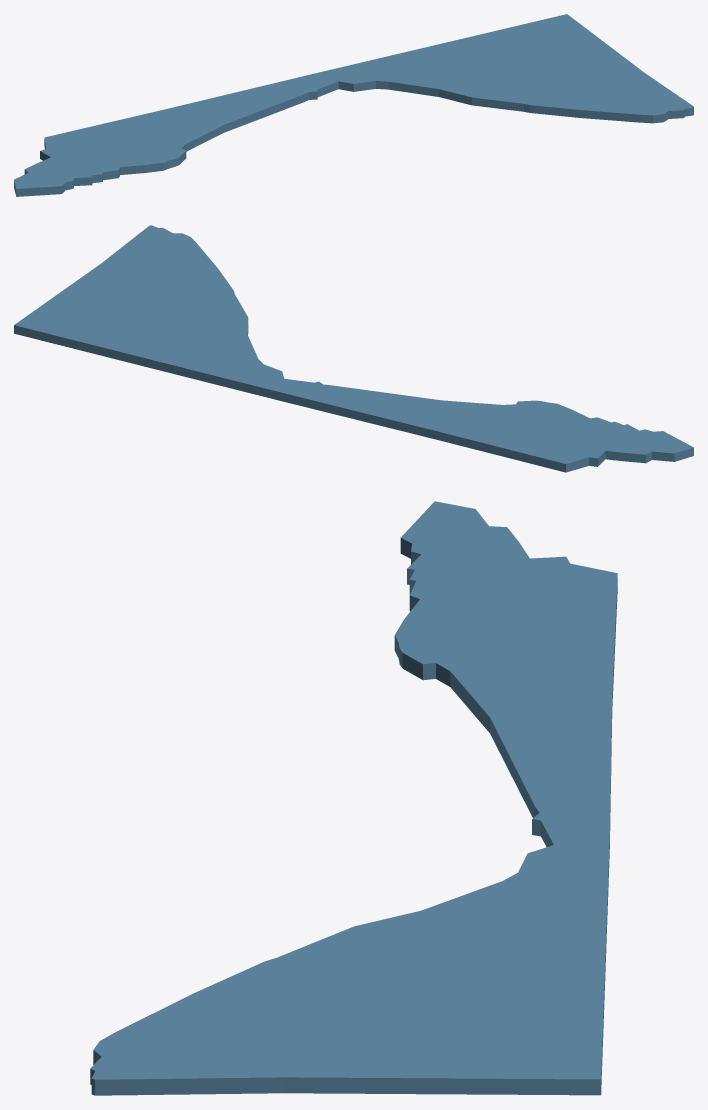
The model's file is ubay.glb.
3 renders of one model, top to bottom at view 1: azimuth 30°, elevation 25°; view 2: azimuth 150°, elevation 25°; view 3: azimuth 270°, elevation 25°, orthographic. The views are drawn at different scales.
Parts seen in each view (by area): view 1: bay; view 2: bay; view 3: bay.
Part boxes in pixels (x1,y1,x2,y2): bay: (14,14,693,196); bay: (14,225,693,472); bay: (90,501,617,1095).
Size of the model in its own units: 3.48 by 0.0446 by 1.34.
